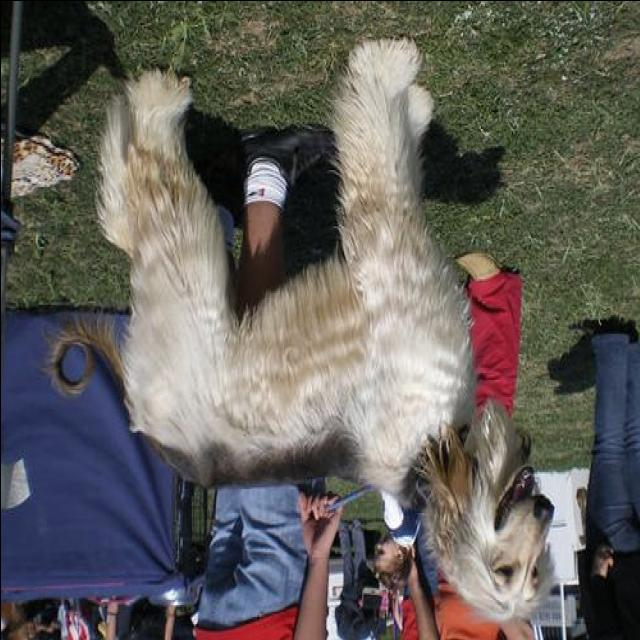afghan_hound: (29, 31, 556, 624)
